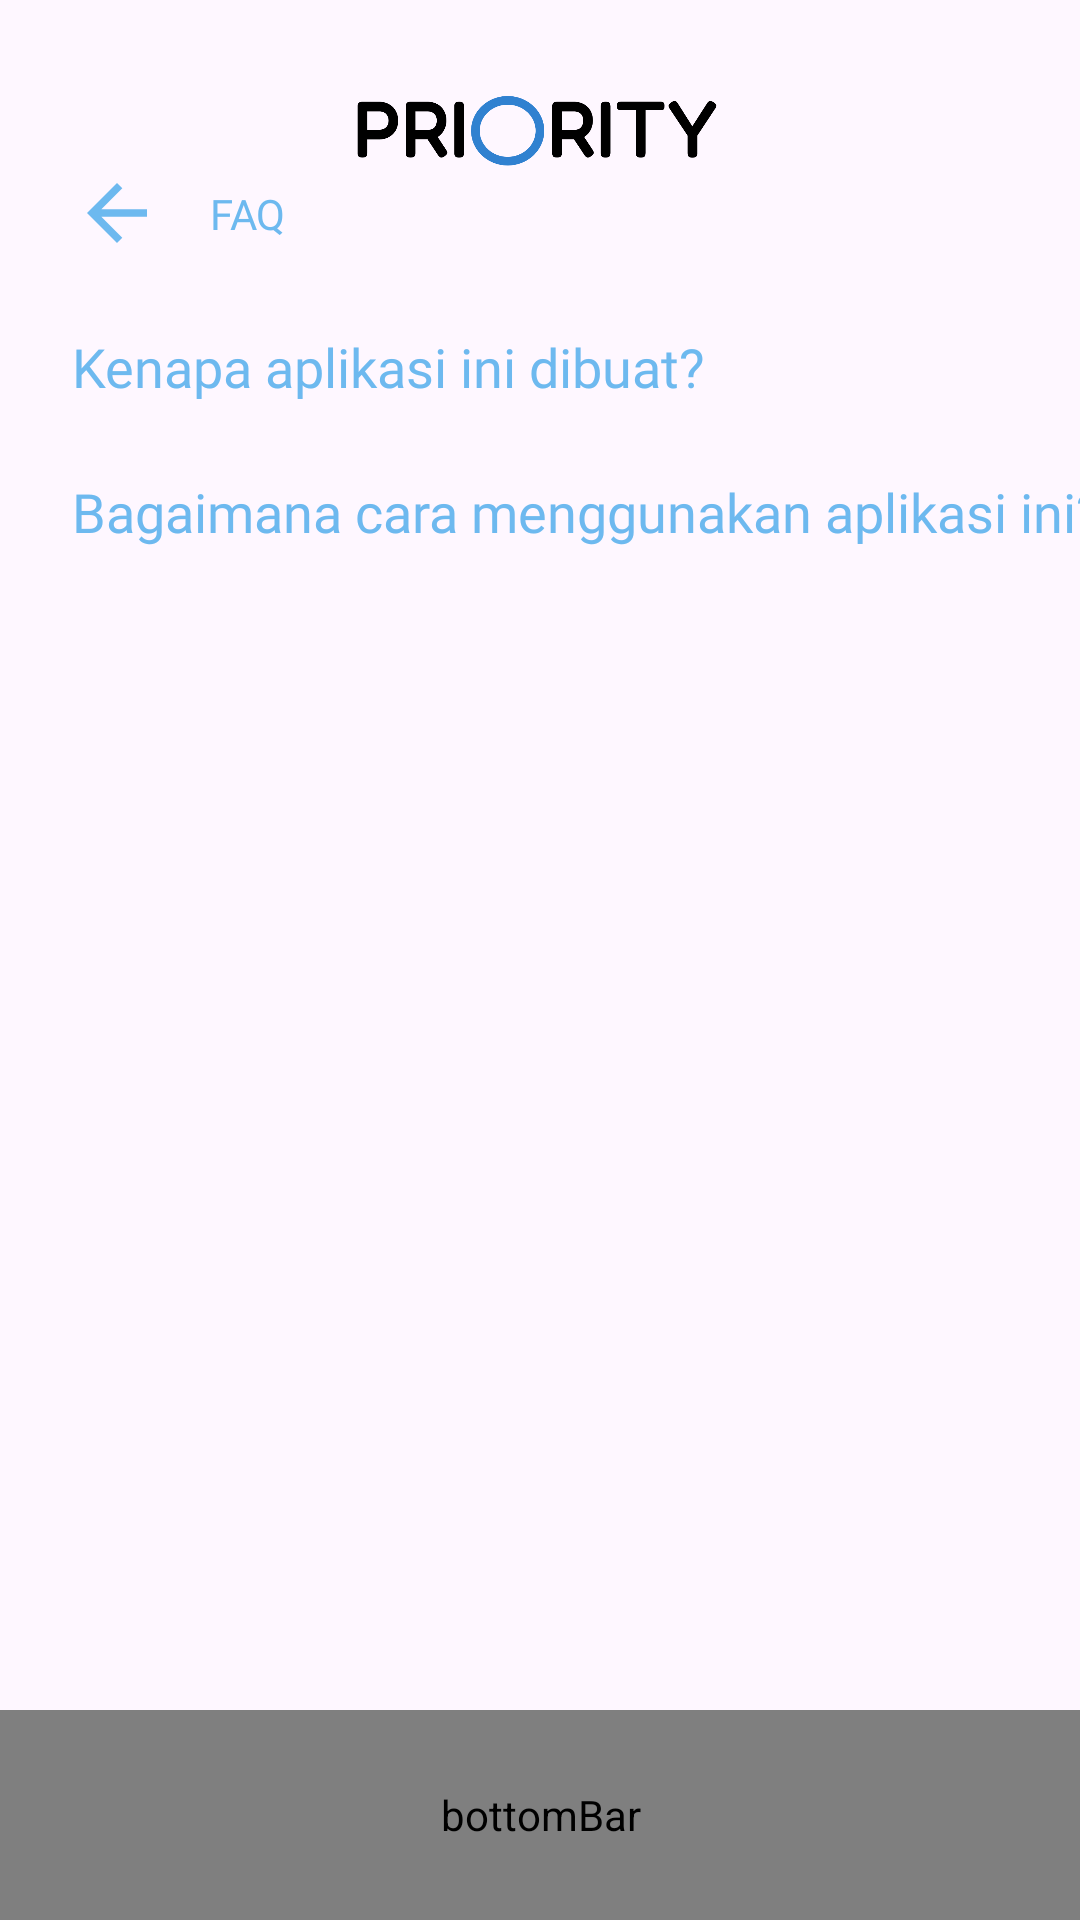

Screen size 1080×1920. Icon name, then its center in pixels as (x=x, y=y):
arrow back: (x=117, y=213)
